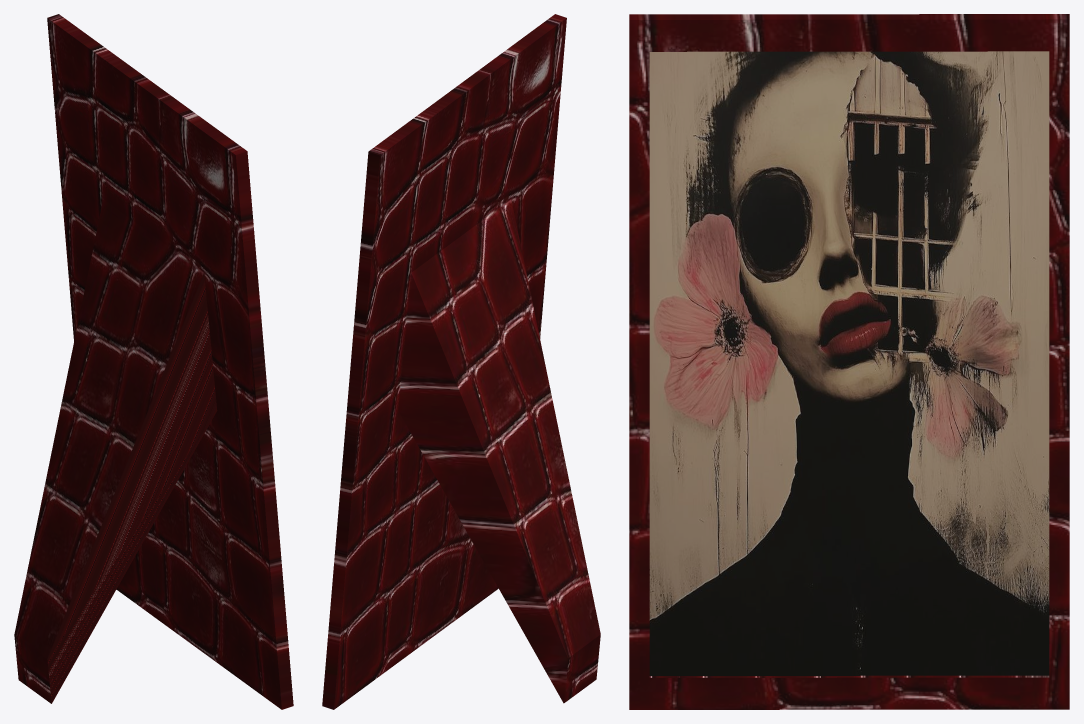
The model's file is Cuadro.fbx.
3 views of the same model, side by side, from view 1: azimuth 30°, elevation 25°; view 2: azimuth 150°, elevation 25°; view 3: azimuth 270°, elevation 25° (orthographic). The views are drawn at different scales.
Parts seen in each view (by area): view 1: Foto 1; view 2: Foto 1; view 3: Foto 1.
Part boxes in pixels (left/top/right/bottom): Foto 1: left=14, top=14, right=293, bottom=709; Foto 1: left=322, top=14, right=600, bottom=709; Foto 1: left=629, top=14, right=1069, bottom=709.
Bounding box in the file's own units: 0.3277 × 1.07 × 0.6303.
Materials: 2 (2 with a texture image).
